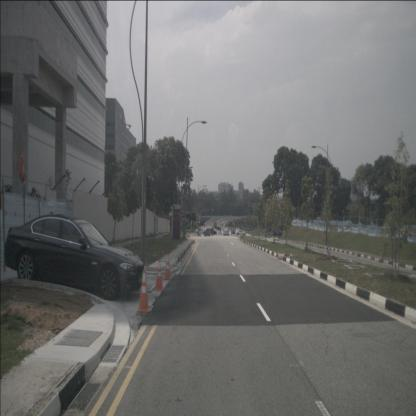cone: (137, 269, 150, 312), (154, 259, 164, 291), (163, 254, 171, 280)
